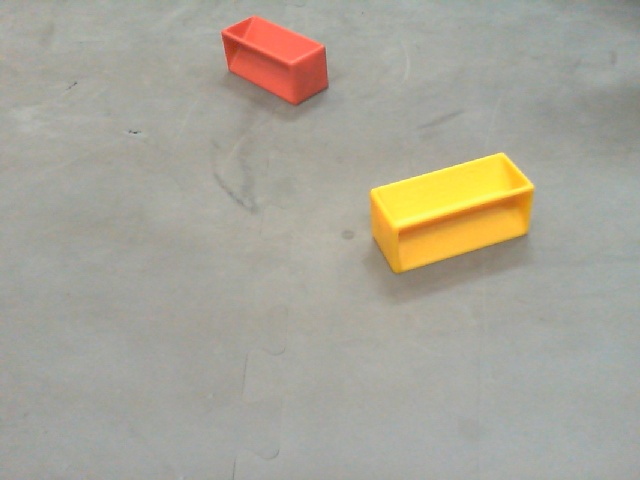RedSample: (219, 13, 328, 109)
YellowSample: (367, 152, 535, 274)
